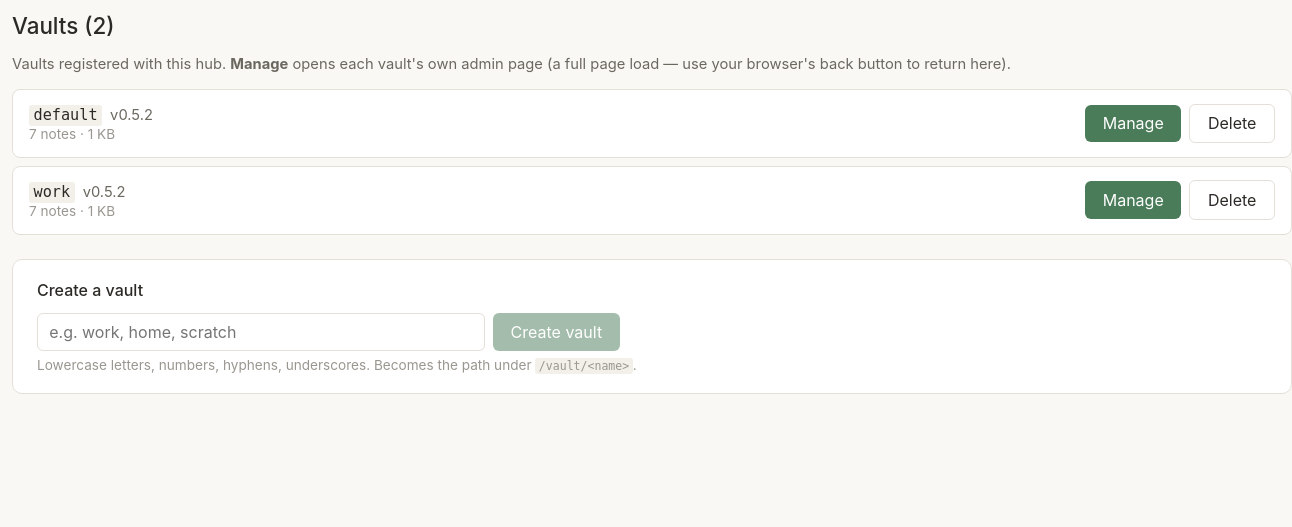
Test case: MultiVaultHome — create › a created-but-no-token result renders the guidance branch, not 'already existed'
Type "scratch" into the field named "New vault name" at (261, 332), box [37,313,485,351]
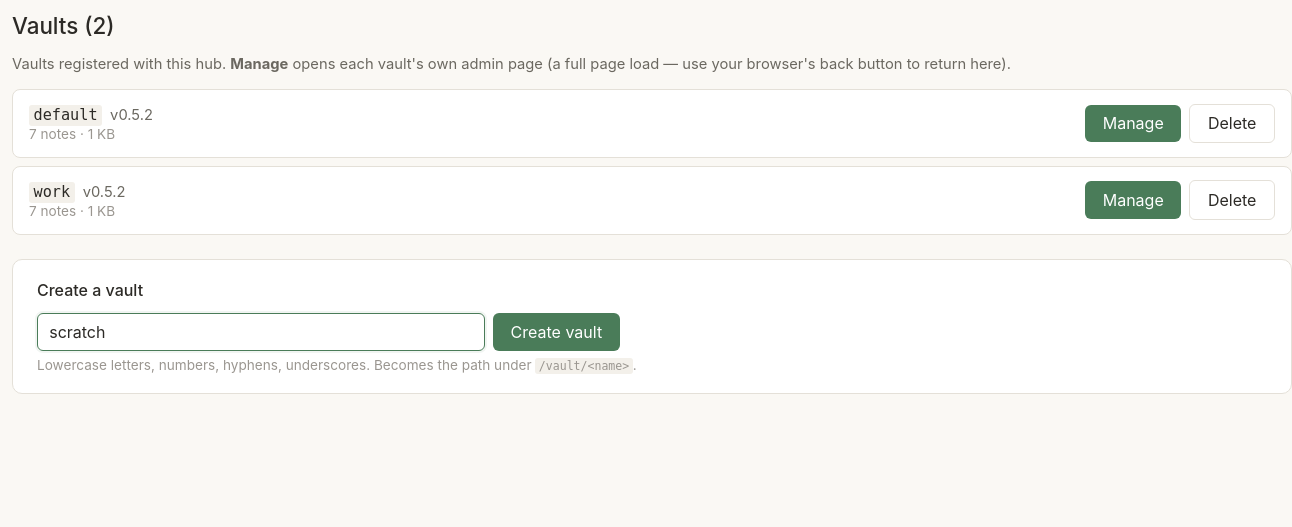
Click the button "Create vault" at (556, 332), box [493,313,620,351]
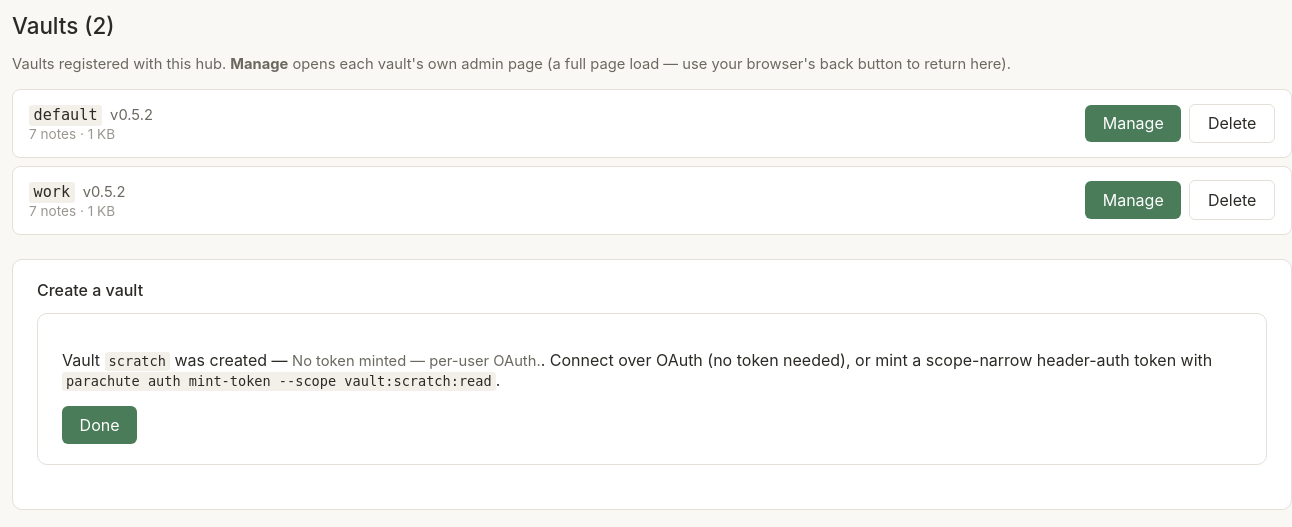
expect the text "was created" is shown: met, box [170,350,267,370]
expect the text "No token minted — per-user OAuth." is shown: met, box [292,352,541,370]
